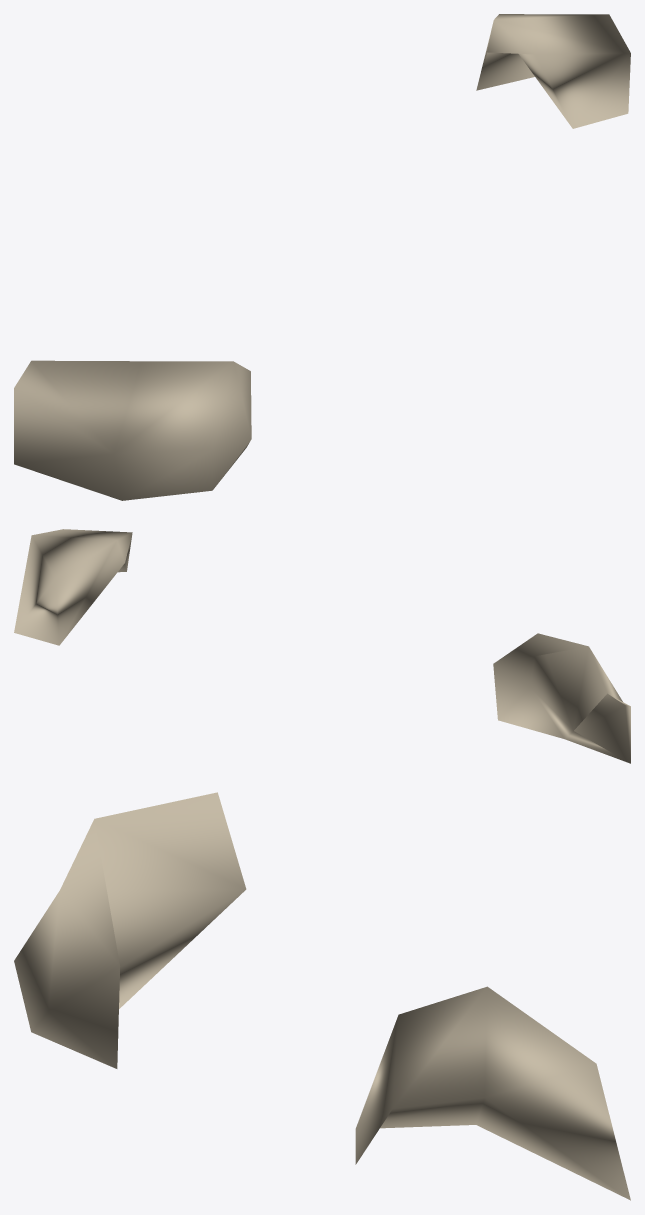
File: m_jet_2c66f809.glb
The picture shows the model from 3 angles, top to bottom: view 1: azimuth 30°, elevation 25°; view 2: azimuth 150°, elevation 25°; view 3: azimuth 270°, elevation 25°; orthographic projection. The views are drawn at different scales.
Visible parts, largest first — view 1: mesh; view 2: mesh; view 3: mesh.
Part boxes in pixels (x1,y1,x2,y2): mesh: [14, 14, 630, 500]; mesh: [14, 529, 630, 763]; mesh: [14, 792, 630, 1200].
Bounding box in the file's own units: 401 × 137 × 215.
